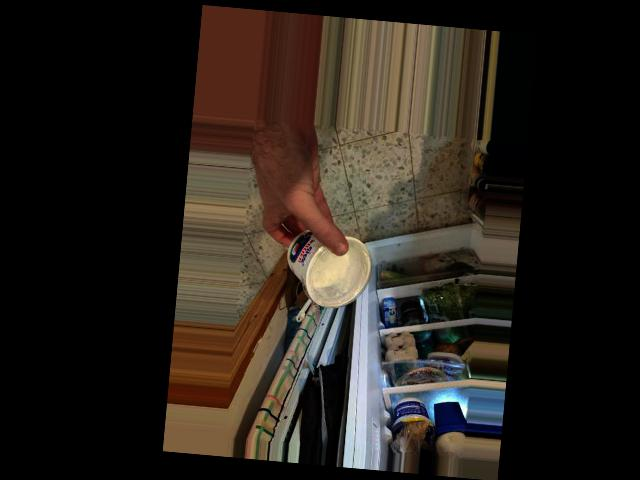cotage: (279, 222, 365, 308)
